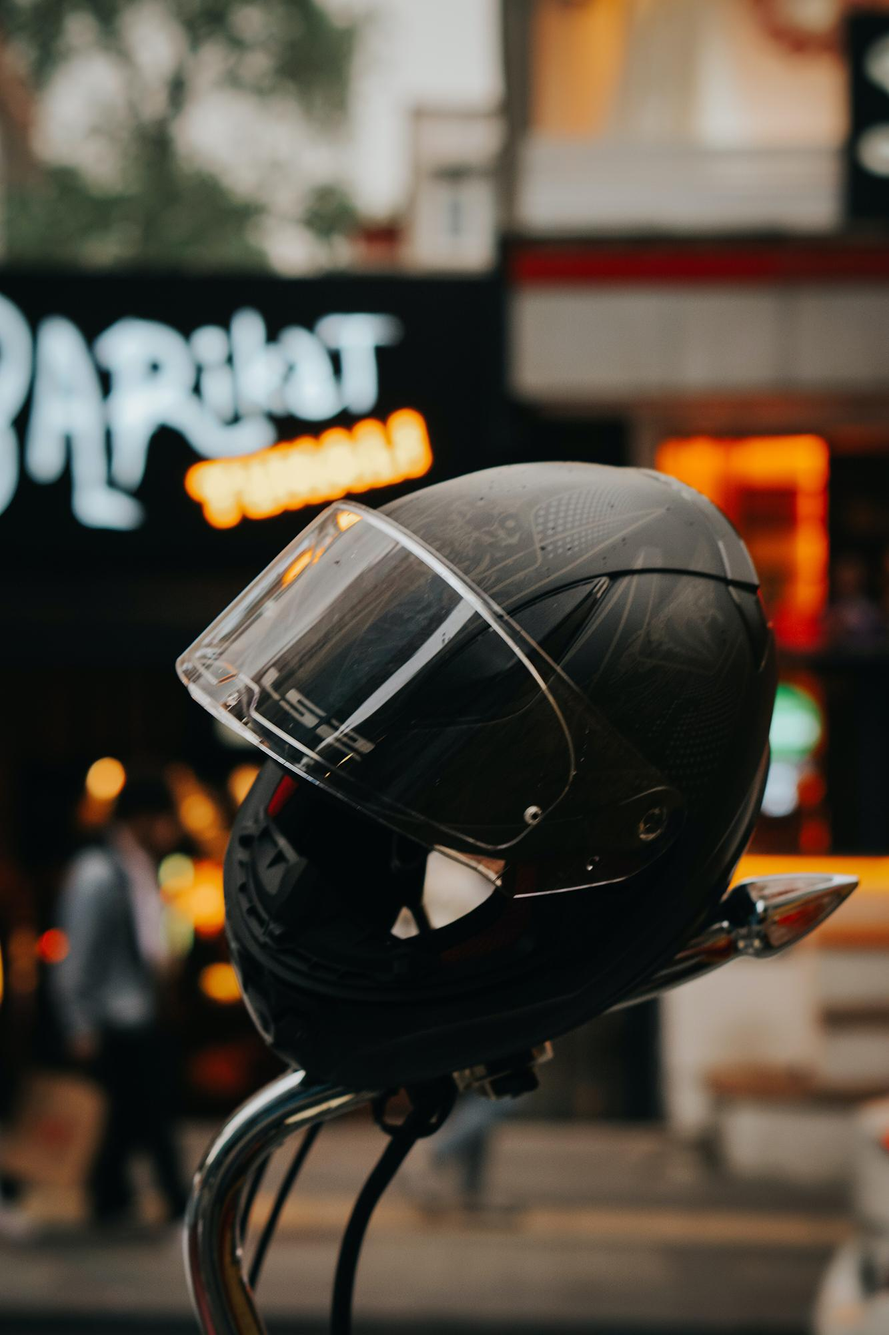helmet: (171, 457, 782, 1098)
